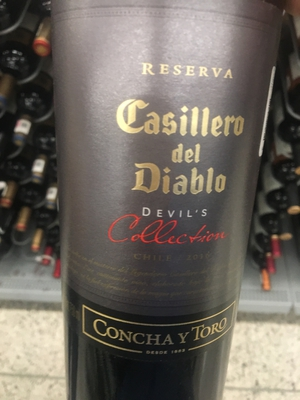casillero del diablo devils collection rojo: (51, 3, 277, 400)
